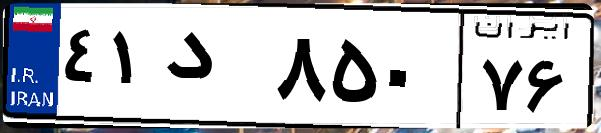0: (385, 28, 445, 110)
1: (110, 28, 158, 98)
4: (57, 26, 110, 100)
5: (330, 28, 385, 110)
6: (525, 38, 570, 115)
7: (475, 38, 525, 113)
8: (270, 28, 330, 110)
د: (158, 20, 270, 120)
